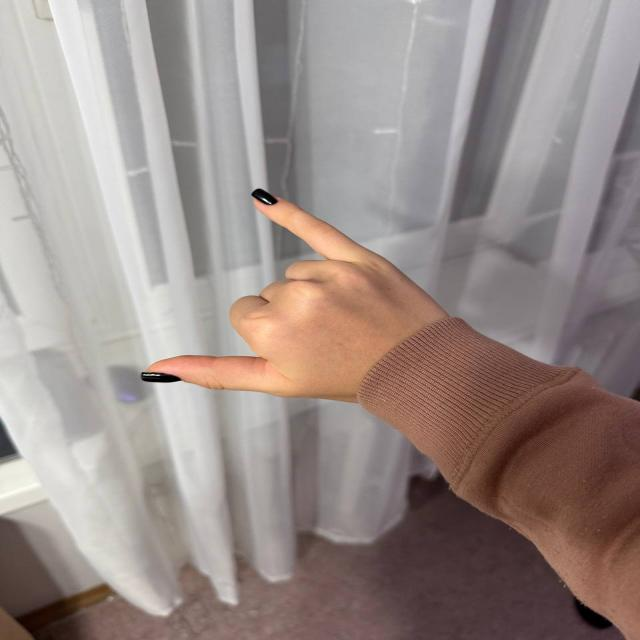u: (111, 182, 473, 403)
